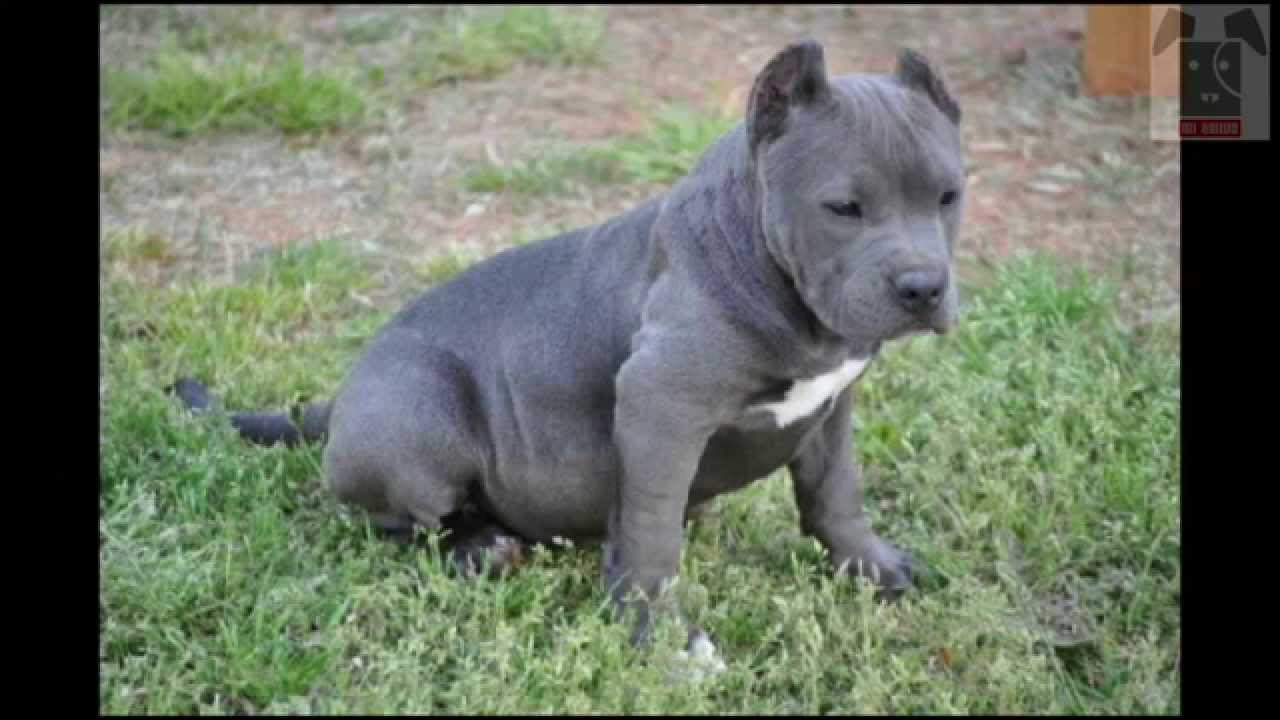Perro Pitbull: (457, 37, 1029, 618)
